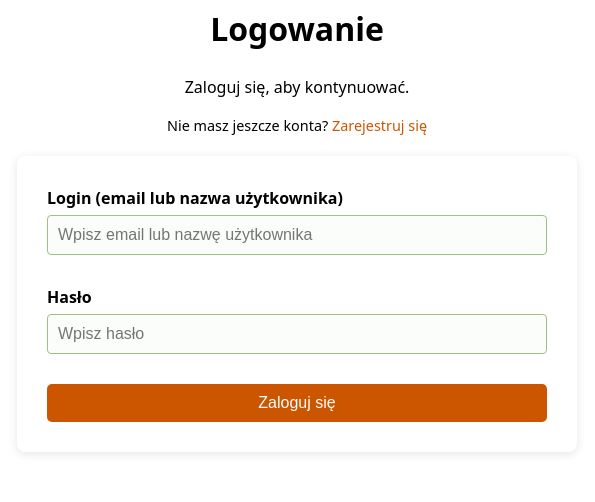
Scenario: Login Page › displays client-side validation errors
Click the button "Zaloguj się". click: (297, 404)
box: [47,384,547,422]
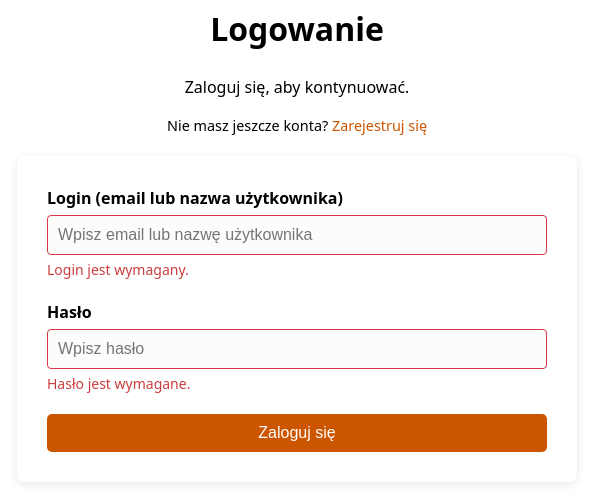
Now the text "Login jest wymagany." is shown, box [47,260,189,280]
Now the text "Hasło jest wymagane." is shown, box [47,374,190,394]
